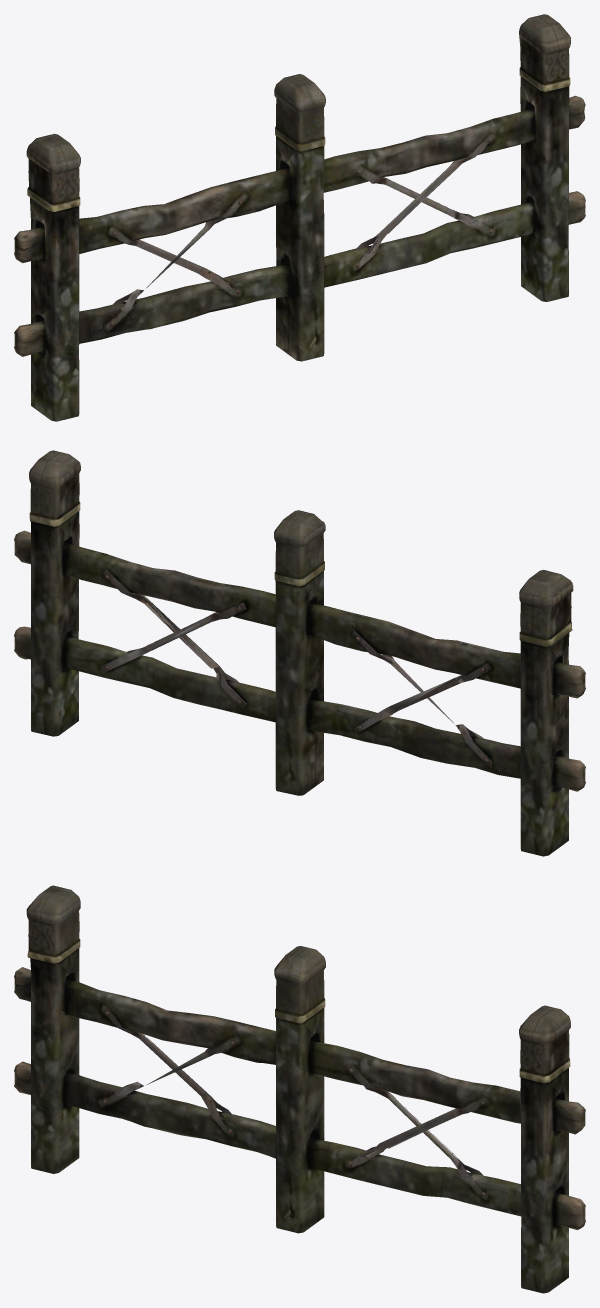
Rendered from fence.glb.
The picture shows the model from 3 angles, top to bottom: view 1: azimuth 30°, elevation 25°; view 2: azimuth 150°, elevation 25°; view 3: azimuth 330°, elevation 25°; orthographic projection.
Visible parts, largest first — view 1: fence_p2; view 2: fence_p2; view 3: fence_p2.
Boxes of the visible parts, x1,y1,x2,y2 form: fence_p2: [14, 14, 585, 421]; fence_p2: [14, 450, 585, 856]; fence_p2: [14, 885, 585, 1293].
Bounding box in the file's own units: 2 × 0.9023 × 0.1596.
Materials: 1 (1 with a texture image).
